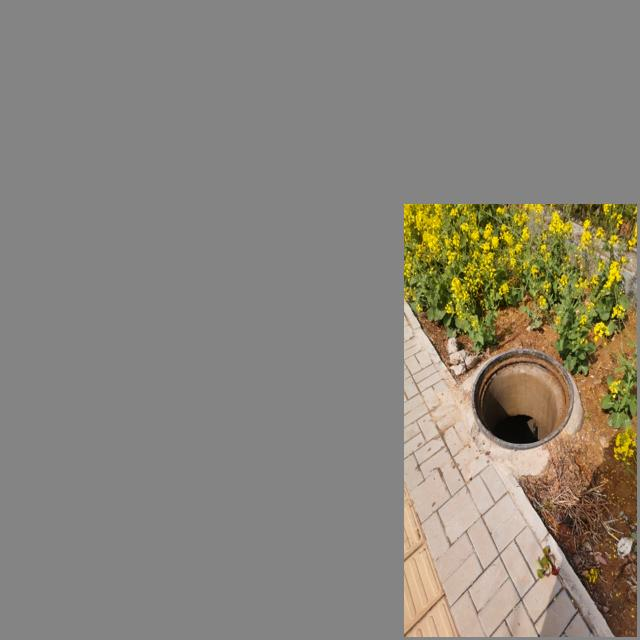lose: (463, 336, 578, 449)
